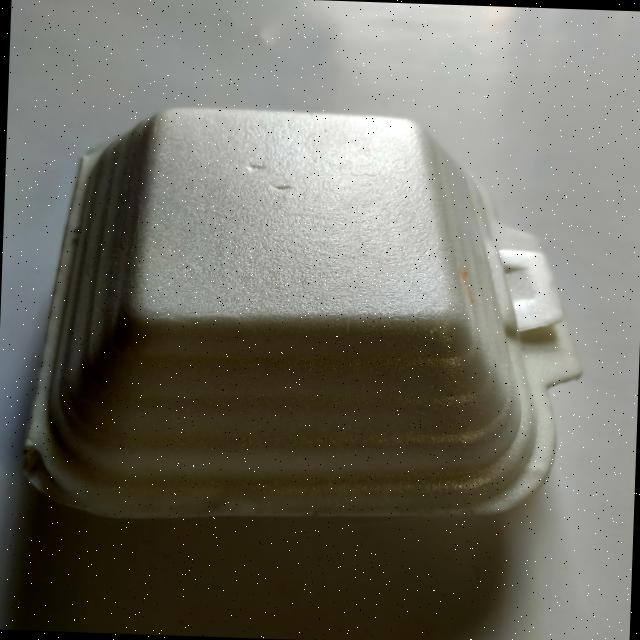styrofoam: (18, 98, 591, 536)
